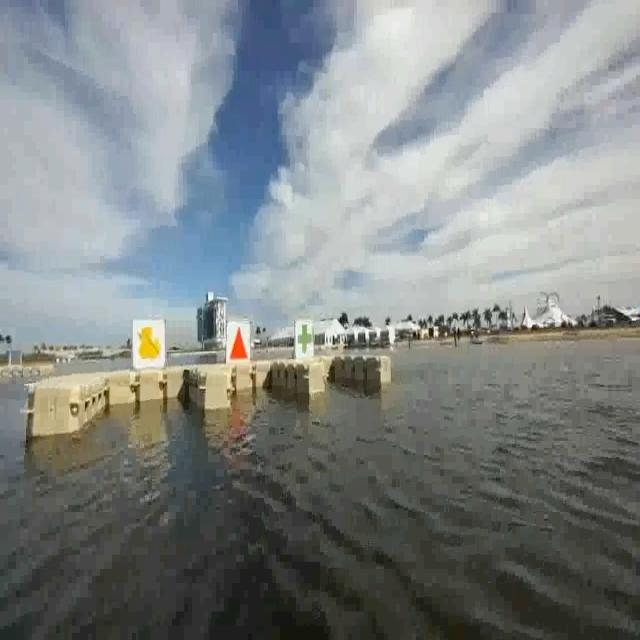blue-cross: (295, 318, 317, 367)
red-dot: (225, 323, 250, 363)
yellow-duck: (129, 318, 167, 370)
